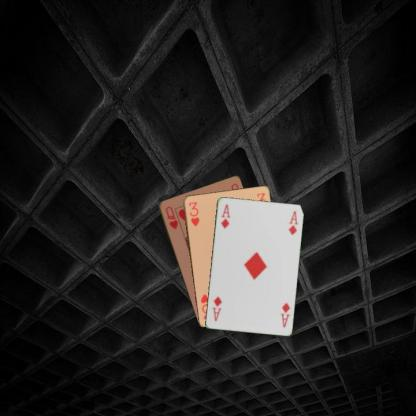3h: (186, 199, 201, 227)
Ad: (218, 201, 231, 229), (278, 300, 291, 328)
Qh: (162, 204, 179, 231)
